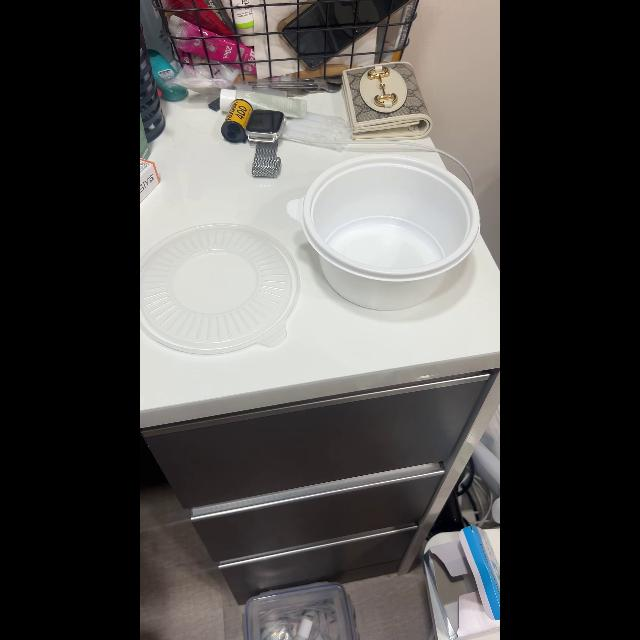clean: (302, 151, 478, 305), (142, 218, 298, 356)
